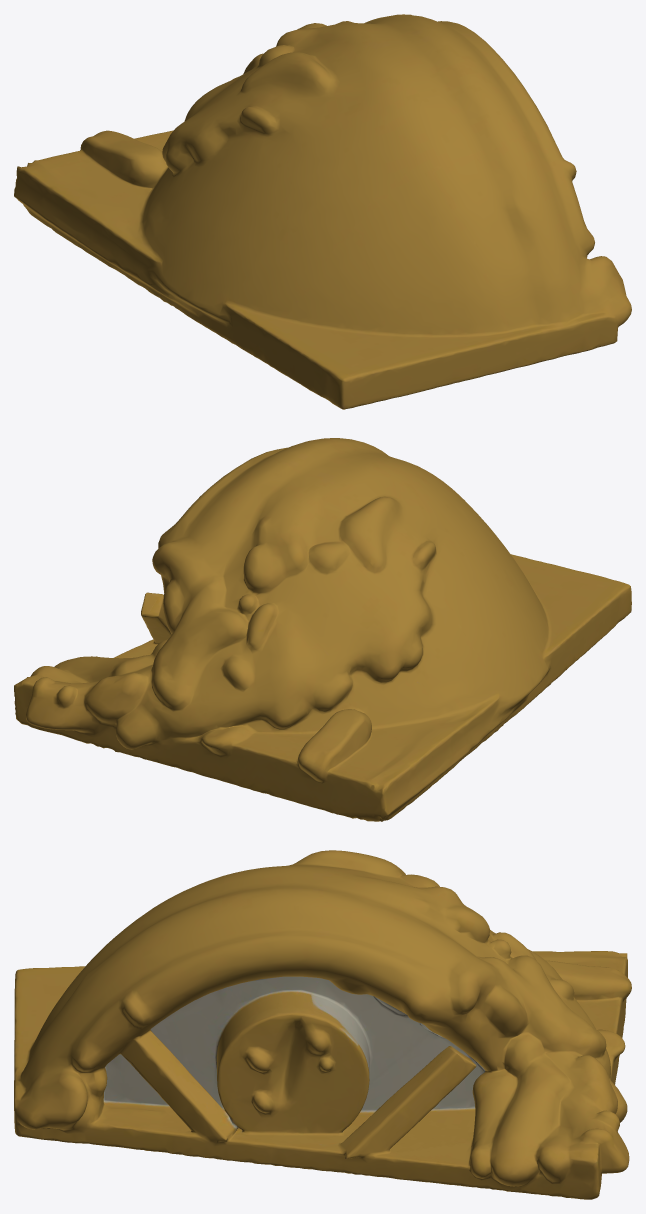
File: granary.fbx
The picture shows the model from 3 angles, top to bottom: view 1: azimuth 30°, elevation 25°; view 2: azimuth 150°, elevation 25°; view 3: azimuth 270°, elevation 25°; orthographic projection. The views are drawn at different scales.
Visible parts, largest first — view 1: tripo_node_8887b2cc-b72b-494f-8e52-209106054abe; view 2: tripo_node_8887b2cc-b72b-494f-8e52-209106054abe; view 3: tripo_node_8887b2cc-b72b-494f-8e52-209106054abe.
Boxes of the visible parts, x1,y1,x2,y2 form: tripo_node_8887b2cc-b72b-494f-8e52-209106054abe: (14, 14, 631, 409); tripo_node_8887b2cc-b72b-494f-8e52-209106054abe: (14, 438, 631, 821); tripo_node_8887b2cc-b72b-494f-8e52-209106054abe: (14, 850, 631, 1199).
Size of the model in its own units: 79.29 by 40.88 by 97.93.
1 material, 1 textured.
